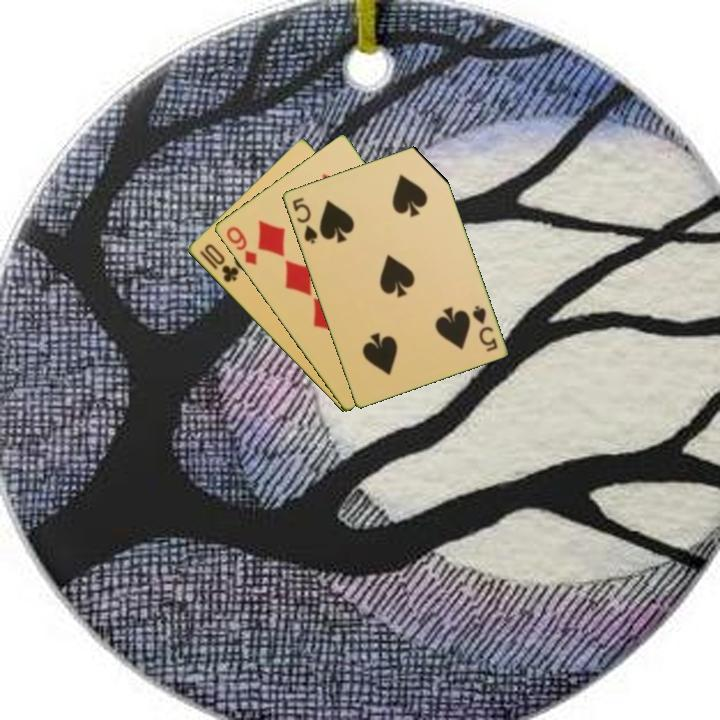10c: (196, 240, 241, 286)
5s: (468, 302, 500, 354), (289, 194, 320, 246)
9d: (222, 223, 260, 268)
